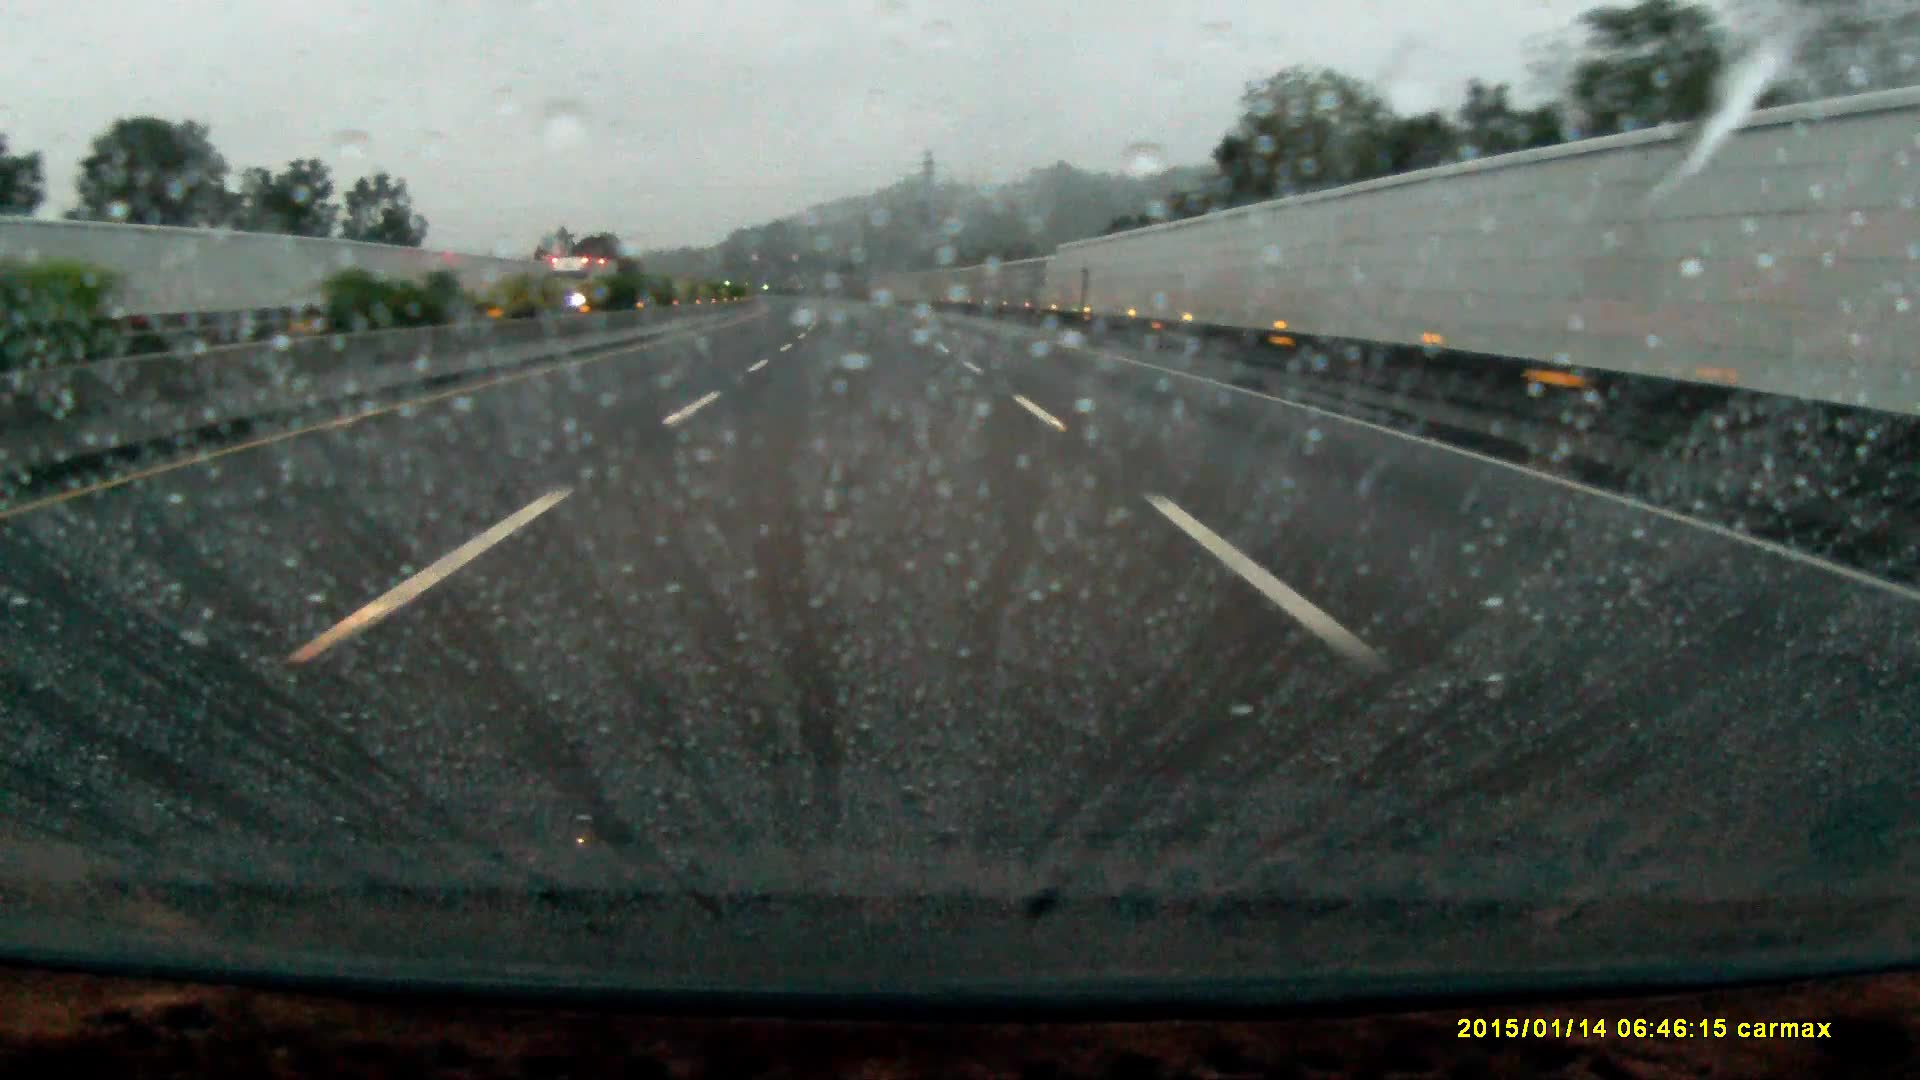vehicle: (550, 255, 620, 311)
